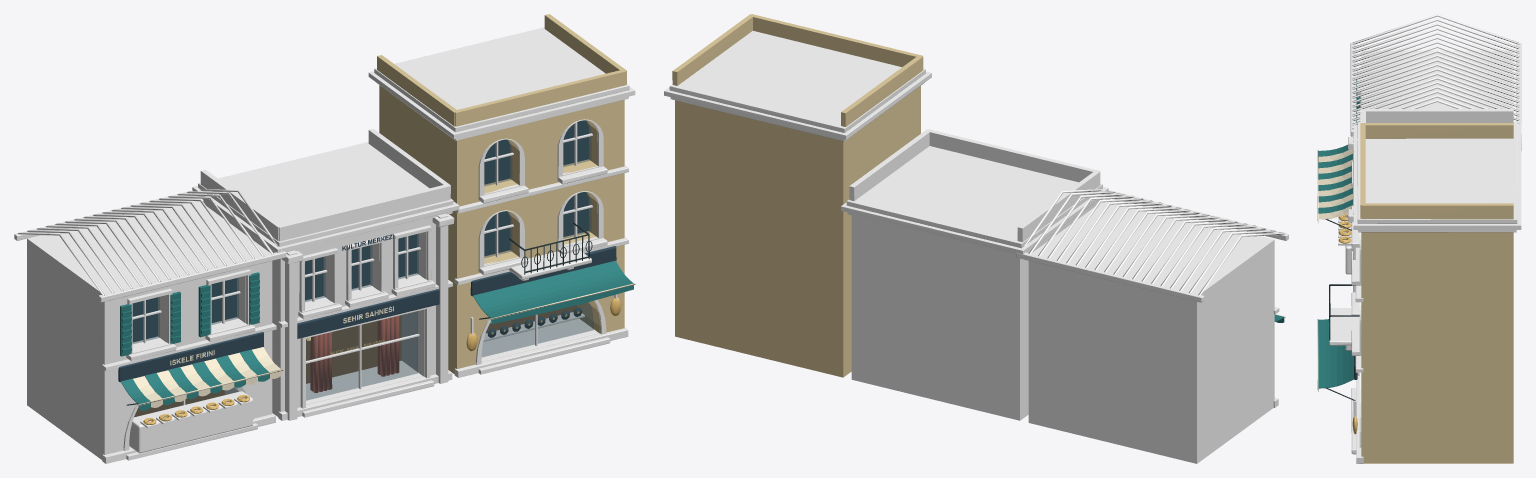
Rendered from DistrictBlock_3_1_LOD1.glb.
The picture shows the model from 3 angles, left to right: view 1: azimuth 30°, elevation 25°; view 2: azimuth 150°, elevation 25°; view 3: azimuth 270°, elevation 25°; orthographic projection. The views are drawn at different scales.
Visible parts, largest first — view 1: RK_DistrictBlock_3_1_LOD1_LC_Lime, RK_DistrictBlock_3_1_LOD1_LC_Cream, RK_DistrictBlock_3_1_LOD1_LC_Ochre, RK_DistrictBlock_3_1_LOD1_LC_Glass, RK_DistrictBlock_3_1_LOD1_LC_Brick, RK_DistrictBlock_3_1_LOD1_LC_Ink, RK_DistrictBlock_3_1_LOD1_LC_Wood, RK_DistrictBlock_3_1_LOD1_LC_Teal, RK_DistrictBlock_3_1_LOD1_LC_Tile, RK_DistrictBlock_3_1_LOD1_LC_Canvas, RK_DistrictBlock_3_1_LOD1_LC_Interior, RK_DistrictBlock_3_1_LOD1_LC_Red (+2 smaller); view 2: RK_DistrictBlock_3_1_LOD1_LC_Ochre, RK_DistrictBlock_3_1_LOD1_LC_Cream, RK_DistrictBlock_3_1_LOD1_LC_Brick, RK_DistrictBlock_3_1_LOD1_LC_Lime, RK_DistrictBlock_3_1_LOD1_LC_Tile, RK_DistrictBlock_3_1_LOD1_LC_Wood; view 3: RK_DistrictBlock_3_1_LOD1_LC_Ochre, RK_DistrictBlock_3_1_LOD1_LC_Lime, RK_DistrictBlock_3_1_LOD1_LC_Tile, RK_DistrictBlock_3_1_LOD1_LC_Cream, RK_DistrictBlock_3_1_LOD1_LC_Teal, RK_DistrictBlock_3_1_LOD1_LC_Brick, RK_DistrictBlock_3_1_LOD1_LC_Canvas, RK_DistrictBlock_3_1_LOD1_LC_Wood, RK_DistrictBlock_3_1_LOD1_LC_Gold, RK_DistrictBlock_3_1_LOD1_LC_Iron.
Part boxes in pixels (bbox=[...]): RK_DistrictBlock_3_1_LOD1_LC_Lime: bbox=[102, 27, 635, 463]; RK_DistrictBlock_3_1_LOD1_LC_Cream: bbox=[27, 198, 272, 459]; RK_DistrictBlock_3_1_LOD1_LC_Ochre: bbox=[377, 14, 626, 373]; RK_DistrictBlock_3_1_LOD1_LC_Glass: bbox=[133, 120, 593, 416]; RK_DistrictBlock_3_1_LOD1_LC_Brick: bbox=[200, 128, 450, 416]; RK_DistrictBlock_3_1_LOD1_LC_Ink: bbox=[118, 120, 616, 382]; RK_DistrictBlock_3_1_LOD1_LC_Wood: bbox=[14, 122, 617, 453]; RK_DistrictBlock_3_1_LOD1_LC_Teal: bbox=[120, 260, 633, 410]; RK_DistrictBlock_3_1_LOD1_LC_Tile: bbox=[18, 189, 283, 295]; RK_DistrictBlock_3_1_LOD1_LC_Canvas: bbox=[133, 283, 635, 407]; RK_DistrictBlock_3_1_LOD1_LC_Interior: bbox=[134, 305, 577, 416]; RK_DistrictBlock_3_1_LOD1_LC_Red: bbox=[310, 316, 399, 392]; RK_DistrictBlock_3_1_LOD1_LC_Ochre: bbox=[672, 14, 923, 377]; RK_DistrictBlock_3_1_LOD1_LC_Cream: bbox=[1028, 199, 1274, 463]; RK_DistrictBlock_3_1_LOD1_LC_Brick: bbox=[849, 129, 1100, 420]; RK_DistrictBlock_3_1_LOD1_LC_Lime: bbox=[664, 31, 1279, 407]; RK_DistrictBlock_3_1_LOD1_LC_Tile: bbox=[1024, 189, 1285, 295]; RK_DistrictBlock_3_1_LOD1_LC_Wood: bbox=[1016, 190, 1288, 302]; RK_DistrictBlock_3_1_LOD1_LC_Ochre: bbox=[1360, 123, 1513, 463]; RK_DistrictBlock_3_1_LOD1_LC_Lime: bbox=[1329, 70, 1521, 463]; RK_DistrictBlock_3_1_LOD1_LC_Tile: bbox=[1352, 14, 1519, 129]; RK_DistrictBlock_3_1_LOD1_LC_Cream: bbox=[1361, 50, 1513, 108]; RK_DistrictBlock_3_1_LOD1_LC_Teal: bbox=[1318, 80, 1360, 391]; RK_DistrictBlock_3_1_LOD1_LC_Brick: bbox=[1360, 109, 1513, 123]; RK_DistrictBlock_3_1_LOD1_LC_Canvas: bbox=[1317, 149, 1352, 389]; RK_DistrictBlock_3_1_LOD1_LC_Wood: bbox=[1345, 43, 1521, 417]; RK_DistrictBlock_3_1_LOD1_LC_Gold: bbox=[1338, 214, 1357, 434]; RK_DistrictBlock_3_1_LOD1_LC_Iron: bbox=[1325, 219, 1359, 400].
Bounding box in the file's own units: 19.16 × 9.02 × 6.44.
